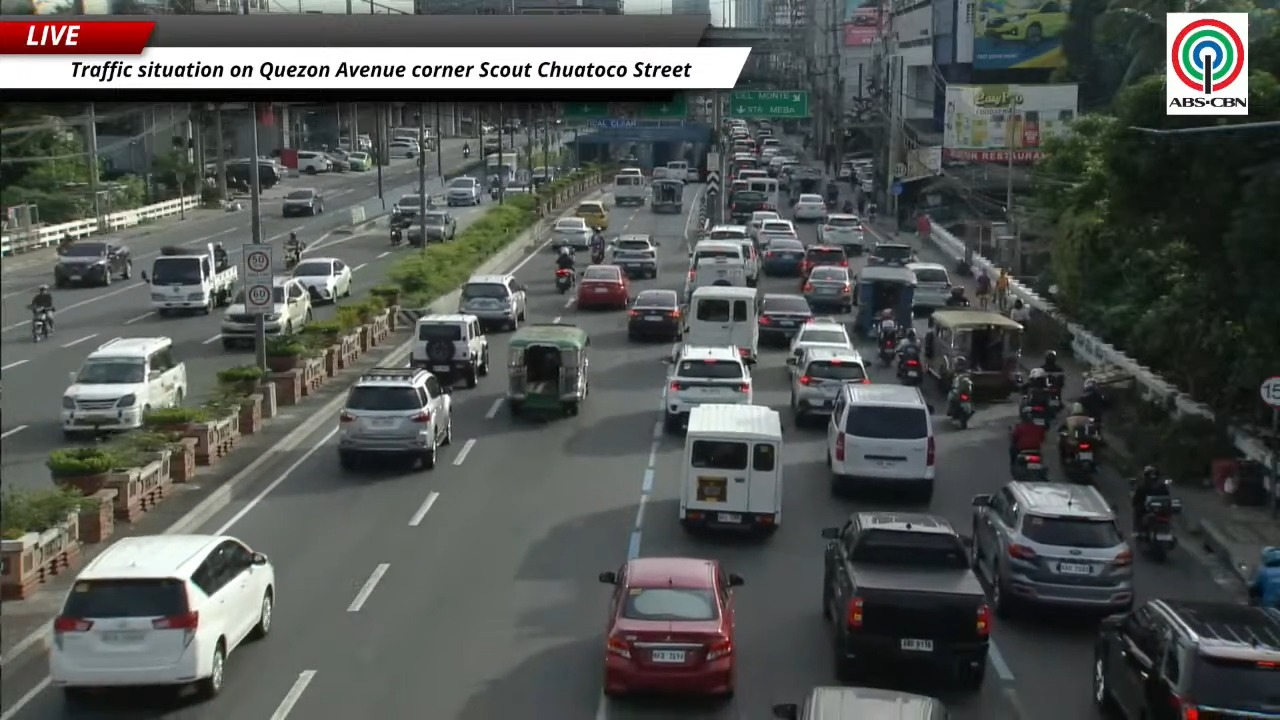car: (49, 534, 275, 703), (1092, 599, 1279, 719), (972, 481, 1132, 616), (598, 558, 743, 696), (825, 383, 936, 505), (61, 337, 187, 440), (338, 368, 451, 470), (664, 345, 751, 432), (788, 348, 870, 421), (409, 314, 489, 387), (981, 0, 1069, 46), (458, 274, 526, 330), (54, 241, 131, 287), (265, 276, 312, 335), (628, 289, 681, 341), (757, 294, 813, 343), (293, 257, 352, 303), (788, 317, 853, 357), (802, 265, 852, 312), (576, 266, 630, 308), (907, 262, 951, 309), (610, 234, 658, 277), (817, 213, 865, 256), (800, 245, 848, 283), (761, 237, 804, 276), (729, 189, 776, 222), (551, 217, 592, 250), (867, 242, 917, 266), (282, 189, 322, 217), (445, 177, 482, 206), (757, 218, 798, 244), (422, 210, 456, 241), (748, 210, 780, 241), (792, 193, 827, 221), (575, 200, 608, 229), (390, 193, 421, 223), (296, 151, 332, 174), (388, 140, 420, 158), (326, 149, 350, 172), (769, 154, 794, 175), (347, 151, 372, 170), (837, 161, 853, 180)
motorcycle: (1135, 495, 1180, 561), (1059, 431, 1097, 481), (1011, 450, 1048, 481), (947, 390, 974, 428), (1020, 395, 1051, 427), (897, 354, 922, 385), (1047, 373, 1064, 416), (31, 308, 51, 342), (879, 335, 896, 367), (555, 268, 574, 293), (284, 248, 300, 270), (390, 227, 403, 246), (591, 246, 604, 264), (464, 147, 470, 158)
truck: (822, 511, 991, 691), (142, 244, 238, 315)
